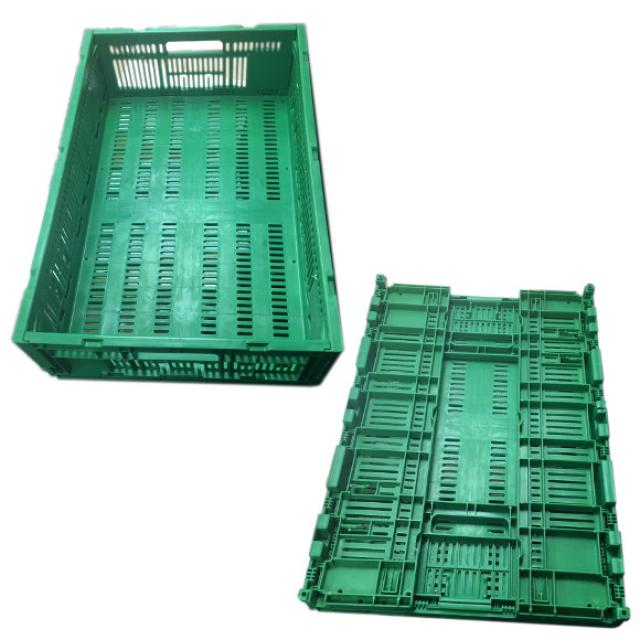basket: (13, 24, 343, 385)
